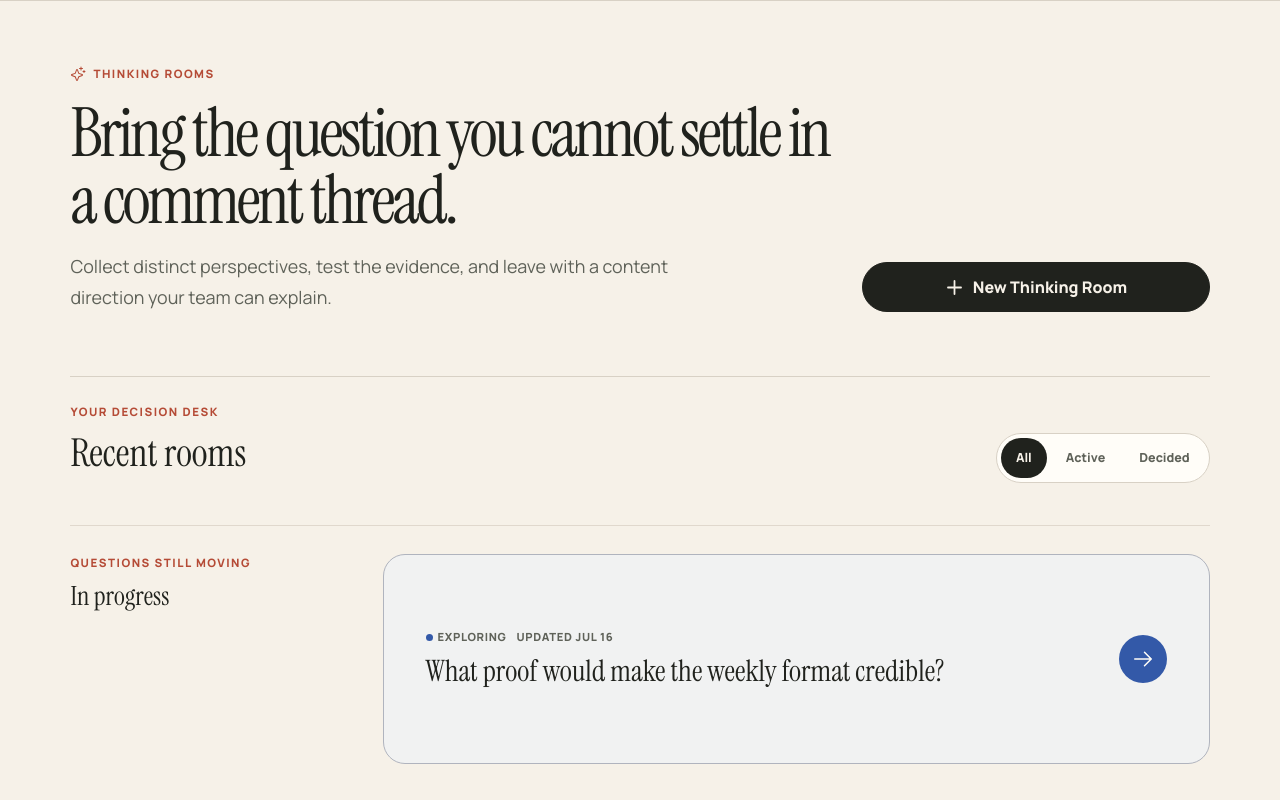
it: Thinking Room library › groups recent work and filters active from decided rooms
The image size is (1280, 800).
Expected: the heading "In progress" is shown, [70,579,169,613]
Click the button "Active": (1086, 458) [1051,438,1120,478]
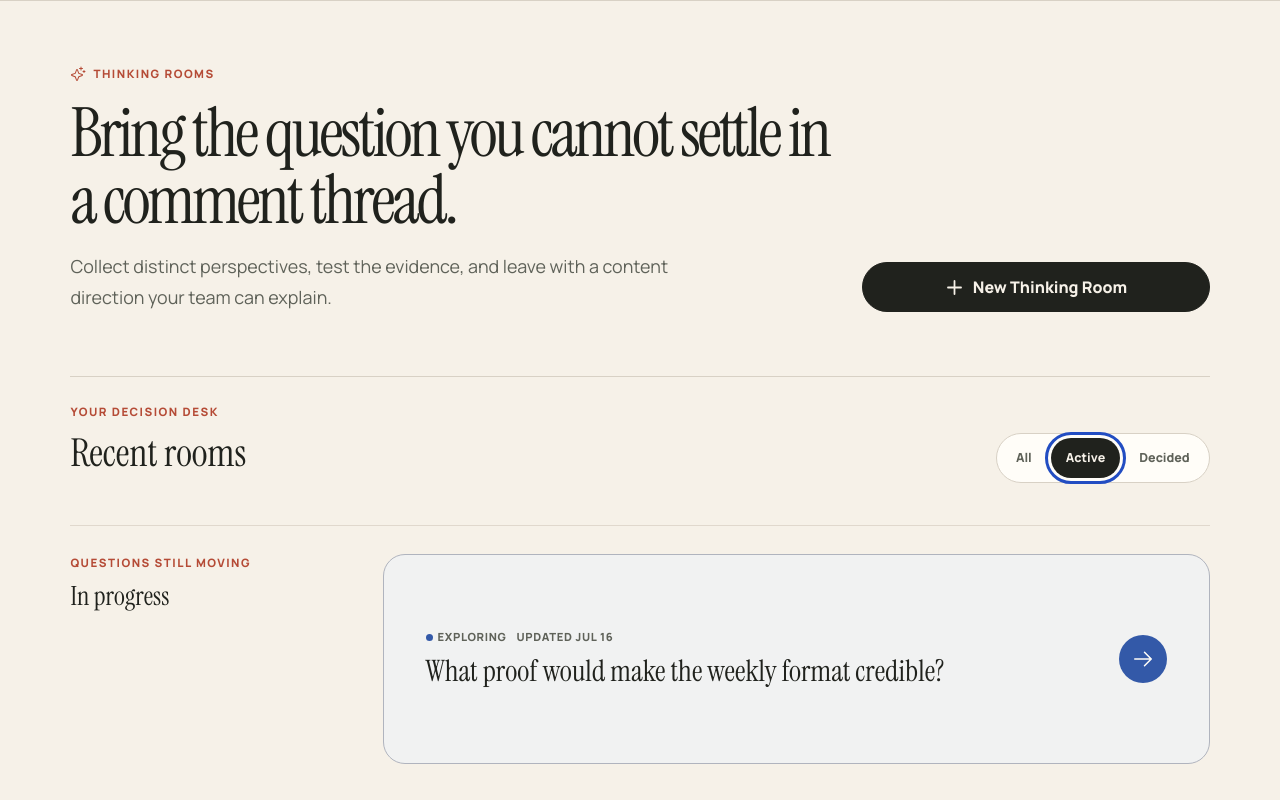
Expected: the link "What proof would make" is shown, [382,554,1210,764]
Click the button "Decided": (1164, 458) [1124,438,1205,478]
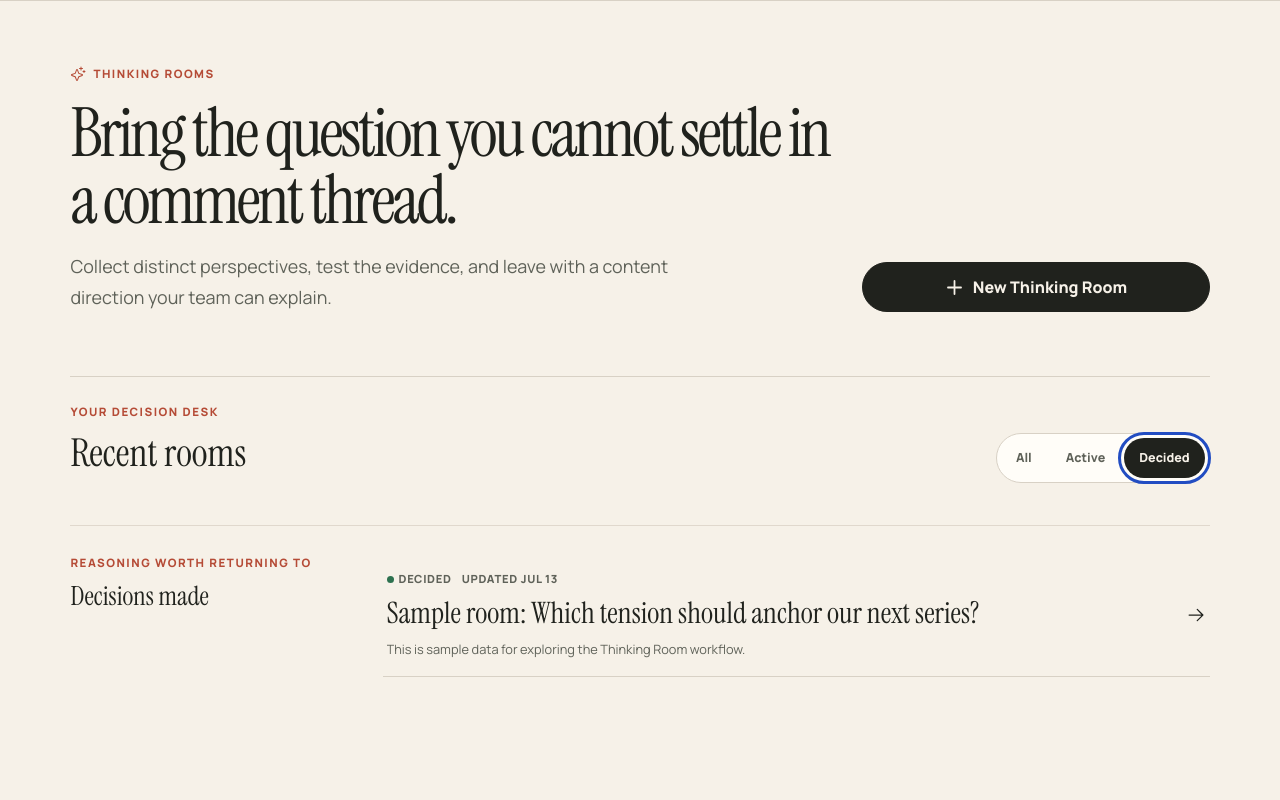
Result: the link "What proof would make" is gone
Result: the link "Sample room: Which tension should anchor our next series?" is shown at [382,554,1210,677]
